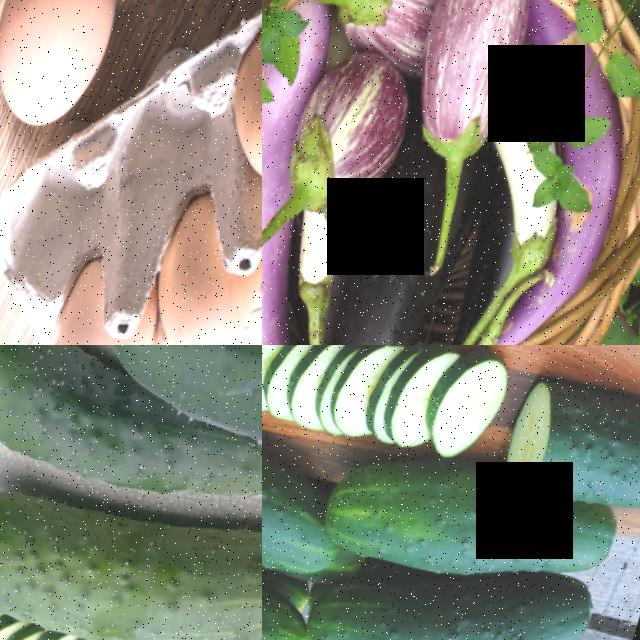cucumber: (0, 453, 262, 640), (321, 422, 523, 584), (305, 545, 588, 640), (0, 345, 173, 489), (503, 352, 640, 532), (88, 345, 262, 465), (262, 393, 365, 584)
egg_: (0, 0, 142, 136), (156, 249, 262, 345), (217, 0, 262, 185), (54, 311, 162, 345)
eggplant: (325, 138, 489, 345), (284, 38, 426, 216), (399, 0, 543, 165), (331, 0, 448, 64)
